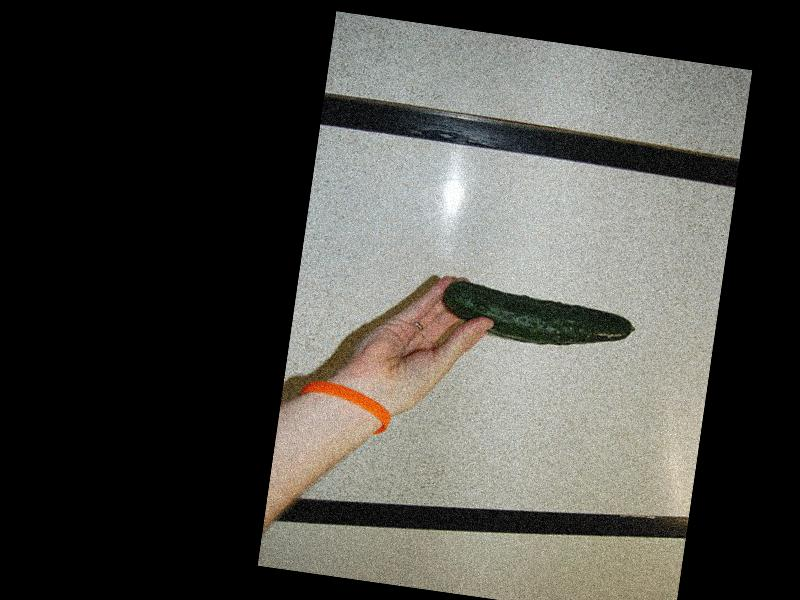Cucumber: (438, 277, 639, 355)
